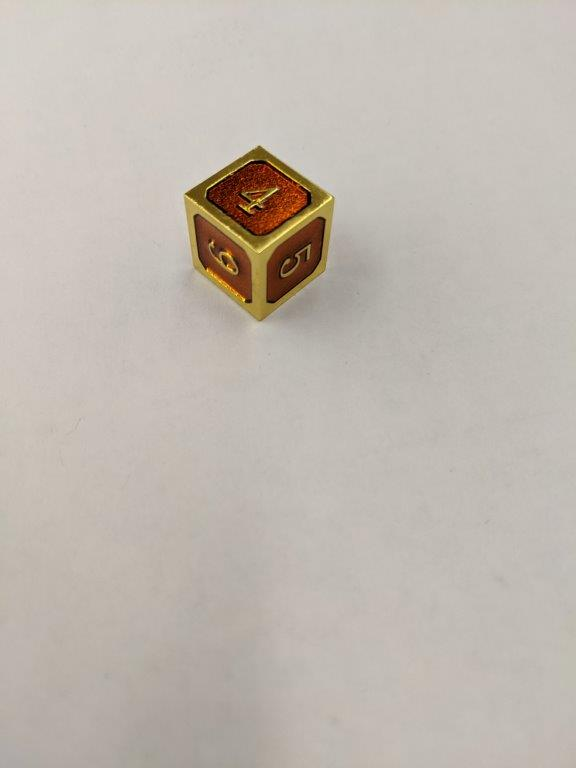d6-4: (182, 145, 333, 321)
